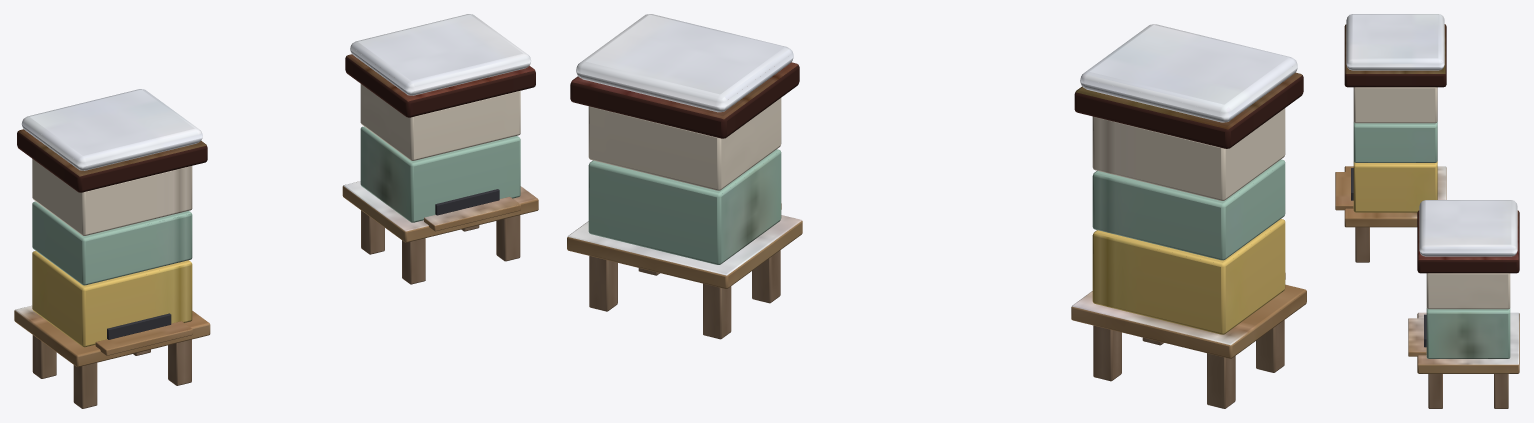
The model's file is unlock-beehive-dong.glb.
The picture shows the model from 3 angles, left to right: view 1: azimuth 30°, elevation 25°; view 2: azimuth 150°, elevation 25°; view 3: azimuth 270°, elevation 25°; orthographic projection. The views are drawn at different scales.
Parts seen in each view (by area): view 1: unlock-beehive-static; view 2: unlock-beehive-static; view 3: unlock-beehive-static.
Boxes of the visible parts, x1,y1,x2,y2 form: unlock-beehive-static: [14, 14, 538, 408]; unlock-beehive-static: [567, 14, 1306, 408]; unlock-beehive-static: [1335, 14, 1519, 408].
Size of the model in its own units: 1.29 by 0.62 by 0.5051.
Materials: 15 (14 with a texture image).
